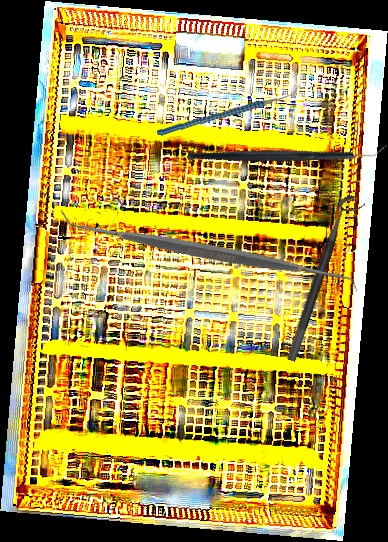Chopper: (186, 81, 388, 222), (156, 76, 302, 143)
Fixation Ring: (285, 192, 367, 367)
Spatula Surgical: (59, 103, 359, 399)
